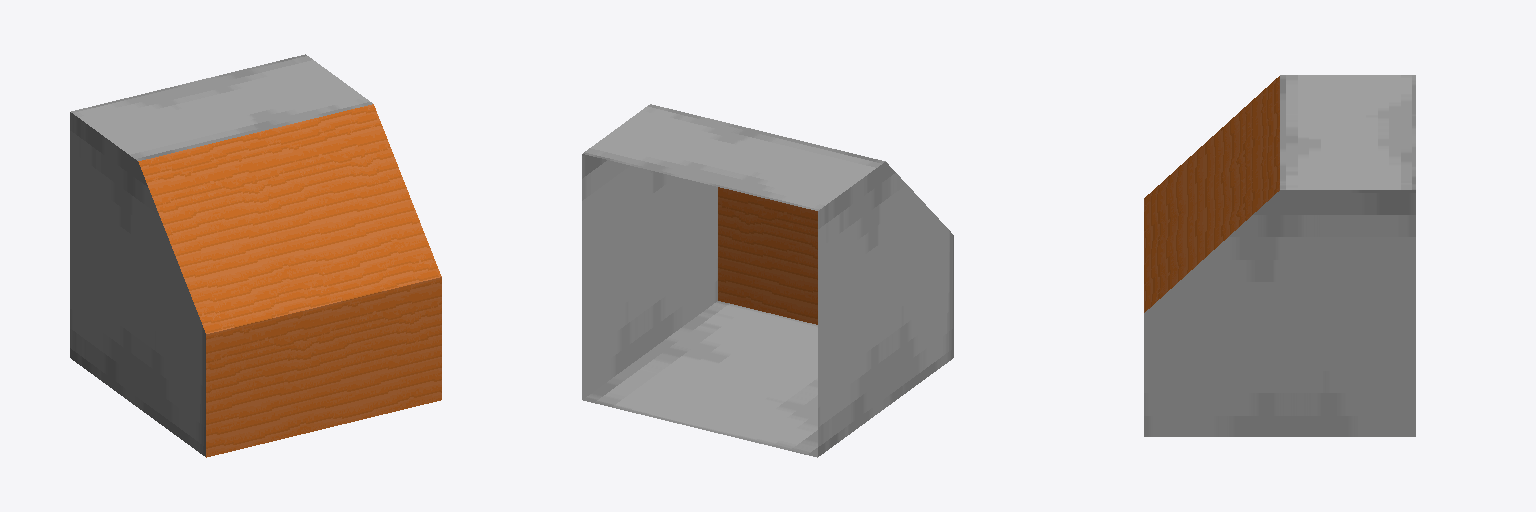
3 views of the same model, side by side, from view 1: azimuth 30°, elevation 25°; view 2: azimuth 150°, elevation 25°; view 3: azimuth 270°, elevation 25° (orthographic).
Visible parts, largest first — view 1: Cube; view 2: Cube; view 3: Cube.
Boxes of the visible parts, x1,y1,x2,y2 form: Cube: [70, 54, 441, 457]; Cube: [582, 104, 953, 457]; Cube: [1144, 75, 1415, 436].
Size of the model in its own units: 2 by 2 by 2.
Materials: 1 (1 with a texture image).